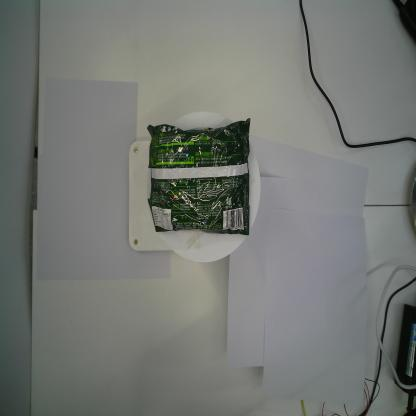Instant Noodles: (144, 116, 252, 240)
